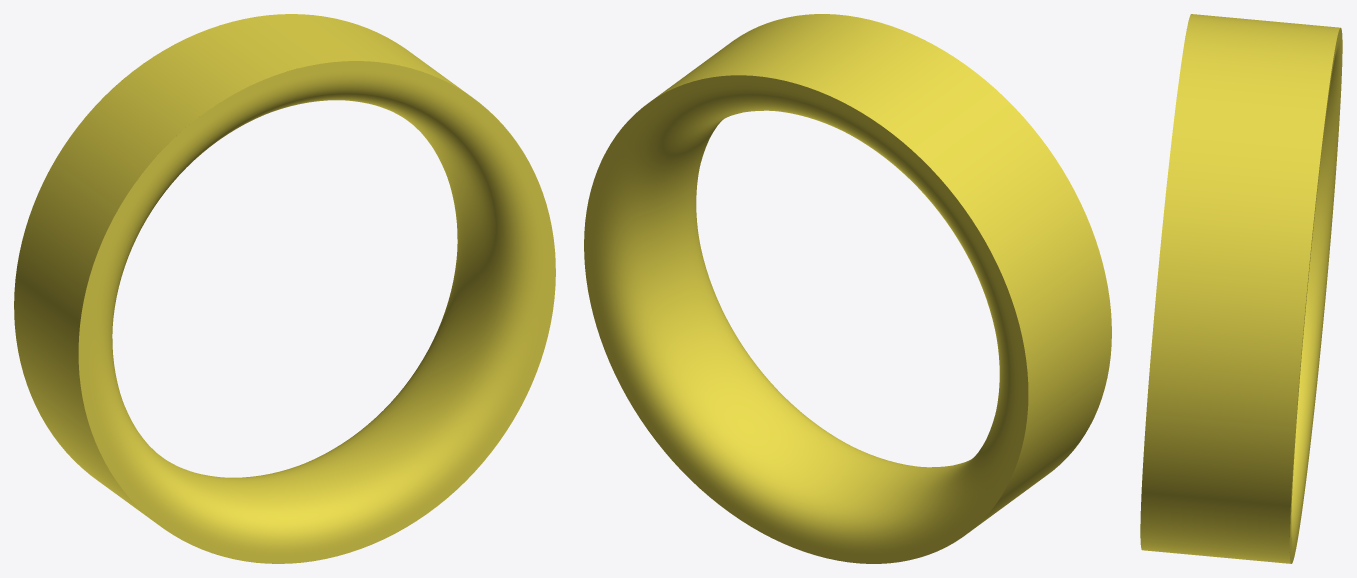
File: ringreta.glb
3 renders of one model, left to right at view 1: azimuth 30°, elevation 25°; view 2: azimuth 150°, elevation 25°; view 3: azimuth 270°, elevation 25°, orthographic.
Visible parts, largest first — view 1: Circle; view 2: Circle; view 3: Circle.
Boxes of the visible parts, x1,y1,x2,y2 form: Circle: (14,14,555,563); Circle: (584,14,1111,563); Circle: (1140,14,1342,563).
Bounding box in the file's own units: 2.56 × 2.55 × 0.943.
